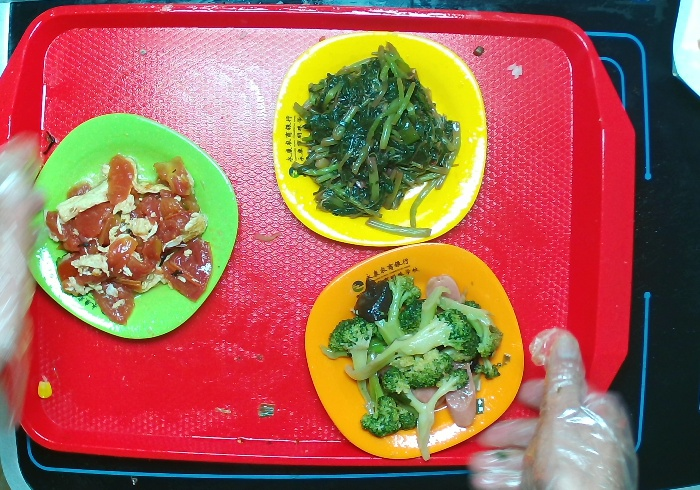YKMZ-Huang_Se_Fang_Die: (271, 28, 492, 247)
YKMZ-Ju_Se_Fang_Die: (303, 239, 528, 463)
YKMZ-Lv_Se_Fang_Die: (29, 110, 242, 340)
